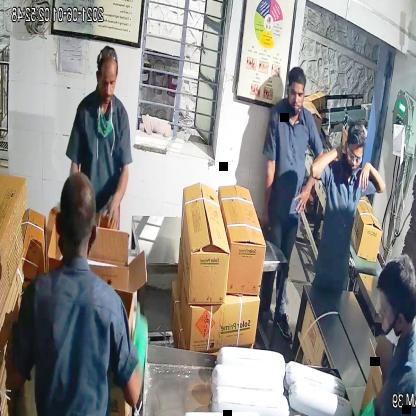goggles: (344, 143, 366, 172)
no_goggles: (94, 69, 121, 91)
